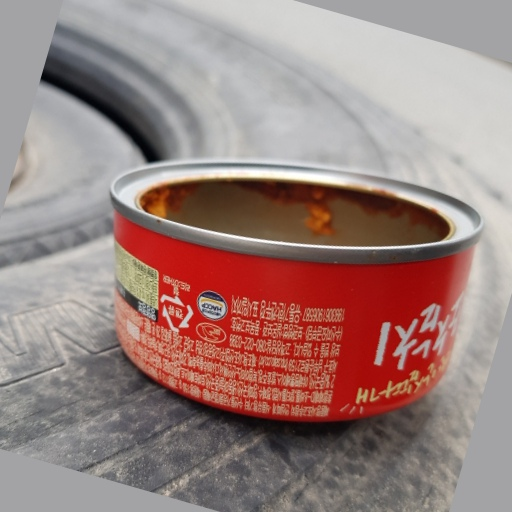Metal_1: (108, 156, 485, 420)
